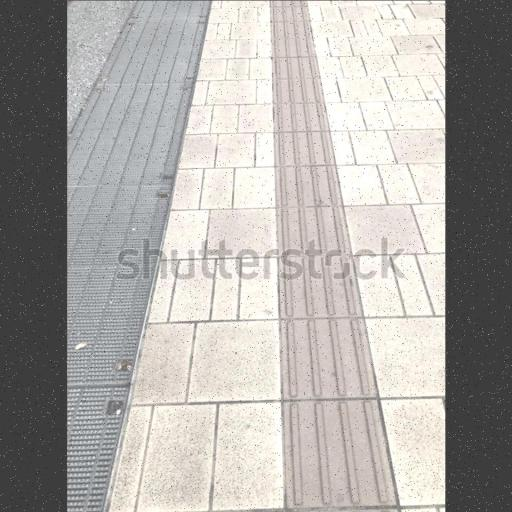line: (276, 205, 349, 253), (274, 164, 344, 206), (273, 131, 335, 167), (270, 103, 332, 131)
